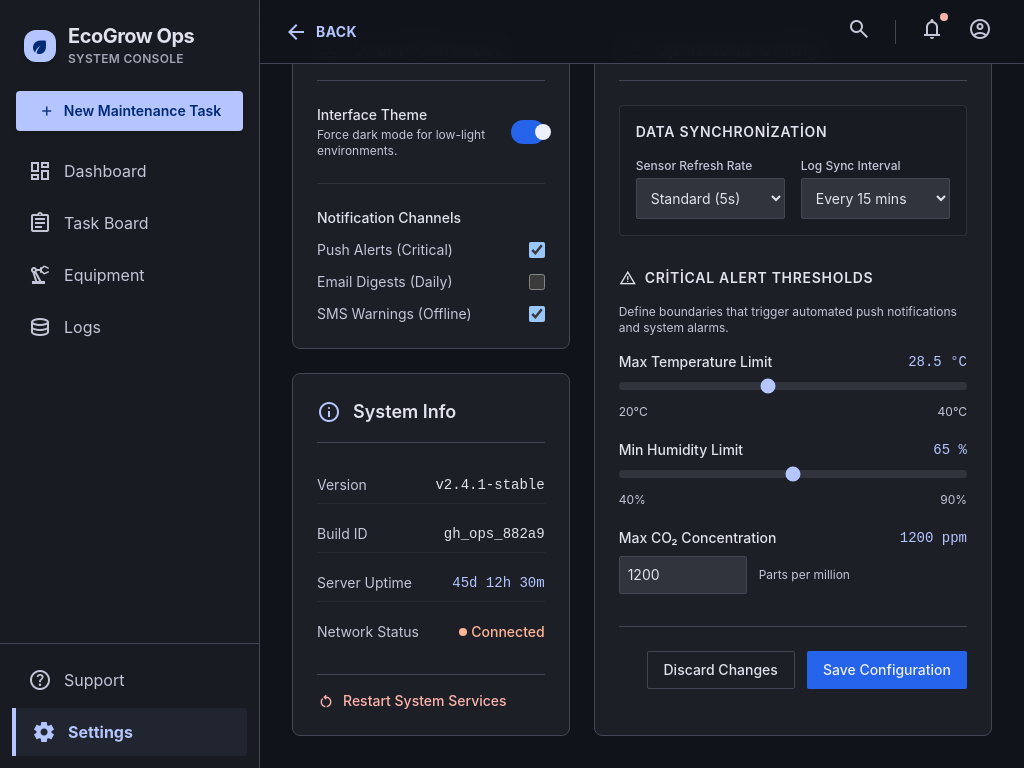
Settings › shows saved confirmation after save
The image size is (1024, 768).
(page scrolled)
Click the button "Save Configuration".
click(887, 670)  # box x1=807 y1=651 x2=967 y2=689
(page scrolled)
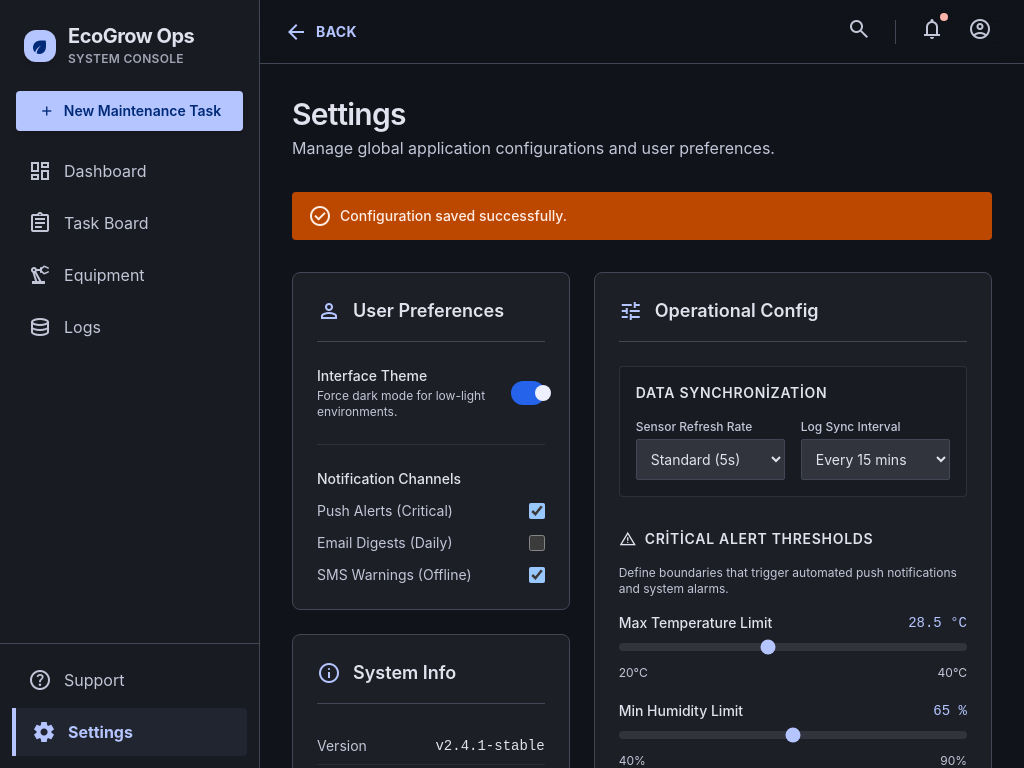
Check: the text "Configuration saved successfully." is shown, box x1=292 y1=192 x2=992 y2=240
